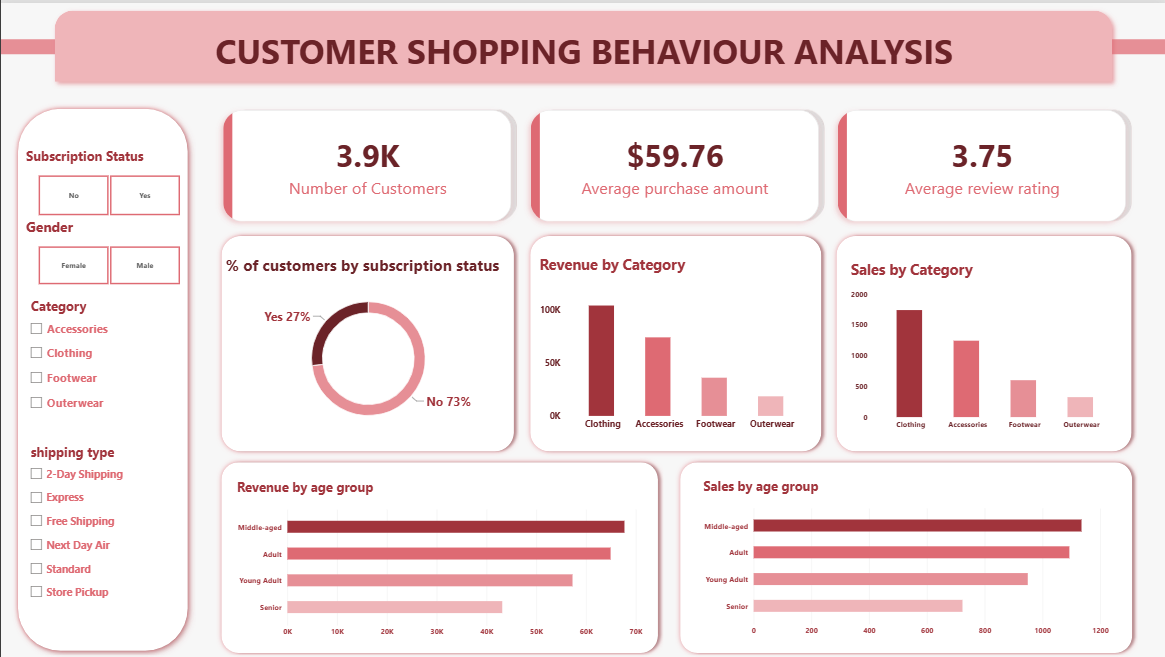

Layout of this report page (visuals, bound fields, positions):
{"tool":"powerbi","page":{"name":"Page 1","canvas":[1920,1080],"ordinal":0},"visuals":[{"type":"cardVisual","fields":{"Data":["public customer.Number of Customers","public customer.Average purchase amount","public customer.Average review rating"]},"box":[350.8,159.9,1520.8,215.4],"z":0},{"type":"shape","box":[0,59.7,354,24.7],"z":1000},{"type":"shape","box":[1556.5,59.7,363.9,24.7],"z":2000},{"type":"shape","box":[353,375.2,499.5,373],"z":3000},{"type":"shape","box":[861.4,375.2,497.3,373],"z":4000},{"type":"shape","box":[1367.6,375.2,504,373],"z":5000},{"type":"shape","box":[77,0,1766,142],"z":6000},{"type":"textbox","box":[351.7,39.1,1216.5,78.2],"z":7000},{"type":"donutChart","title":"% of customers by subscription status","fields":{"Category":["public customer.subscription_status"],"Y":["public customer.Number of Customers"]},"box":[353,399.6,501.8,324.1],"z":8000},{"type":"columnChart","title":"Revenue by Category","fields":{"Category":["public customer.category"],"Y":["Sum(public customer.purchase_amount)"]},"box":[870.7,399.3,475.5,325.2],"z":9000},{"type":"columnChart","title":"Sales by Category","fields":{"Category":["public customer.category"],"Y":["public customer.Number of Customers"]},"box":[1383.2,407.5,473.4,314.9],"z":10000},{"type":"shape","box":[14.9,159.7,306.6,919.8],"z":11000},{"type":"slicer","title":"Subscription Status","fields":{"Values":["public customer.subscription_status"]},"box":[40.5,236.3,272.5,115],"z":12000},{"type":"slicer","fields":{"Values":["public customer.category"]},"box":[40.5,483.3,251.1,284],"z":13000},{"type":"slicer","title":"Gender","fields":{"Values":["public customer.gender"]},"box":[40.5,351.3,272.5,112.8],"z":14000},{"type":"slicer","fields":{"Values":["public customer.shipping_type"]},"box":[40.5,723.9,210.8,285.3],"z":15000},{"type":"shape","box":[353.4,747.3,736.7,332.1],"z":16000},{"type":"shape","box":[1109.3,747.3,762.2,332.1],"z":17000},{"type":"clusteredBarChart","title":"Revenue by age group","fields":{"Category":["public customer.age_group"],"Y":["Sum(public customer.purchase_amount)"]},"box":[372.6,767.8,699.8,296.4],"z":18000},{"type":"clusteredBarChart","title":"Sales by age group","fields":{"Category":["public customer.age_group"],"Y":["public customer.Number of Customers"]},"box":[1140.3,765.7,699.8,296.4],"z":18001}]}

Visuals, with their boxes in screenshot pixels (x1, y1, x2, y2), scaled from the page's 1920x1080 canvas onto the 1165x657 screenshot:
cardVisual - public customer.Number of Customers x public customer.Average purchase amount: [x1=213, y1=97, x2=1136, y2=228]
shape: [x1=0, y1=36, x2=215, y2=51]
shape: [x1=944, y1=36, x2=1164, y2=51]
shape: [x1=214, y1=228, x2=517, y2=455]
shape: [x1=523, y1=228, x2=824, y2=455]
shape: [x1=830, y1=228, x2=1136, y2=455]
shape: [x1=47, y1=0, x2=1118, y2=86]
textbox: [x1=213, y1=24, x2=952, y2=71]
"% of customers by subscription status" donutChart: [x1=214, y1=243, x2=519, y2=440]
"Revenue by Category" columnChart: [x1=528, y1=243, x2=817, y2=441]
"Sales by Category" columnChart: [x1=839, y1=248, x2=1127, y2=439]
shape: [x1=9, y1=97, x2=195, y2=656]
"Subscription Status" slicer: [x1=25, y1=144, x2=190, y2=214]
slicer - public customer.category: [x1=25, y1=294, x2=177, y2=467]
"Gender" slicer: [x1=25, y1=214, x2=190, y2=282]
slicer - public customer.shipping_type: [x1=25, y1=440, x2=152, y2=614]
shape: [x1=214, y1=455, x2=661, y2=656]
shape: [x1=673, y1=455, x2=1136, y2=656]
"Revenue by age group" clusteredBarChart: [x1=226, y1=467, x2=651, y2=647]
"Sales by age group" clusteredBarChart: [x1=692, y1=466, x2=1117, y2=646]
